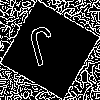J: (25, 25, 62, 76)
